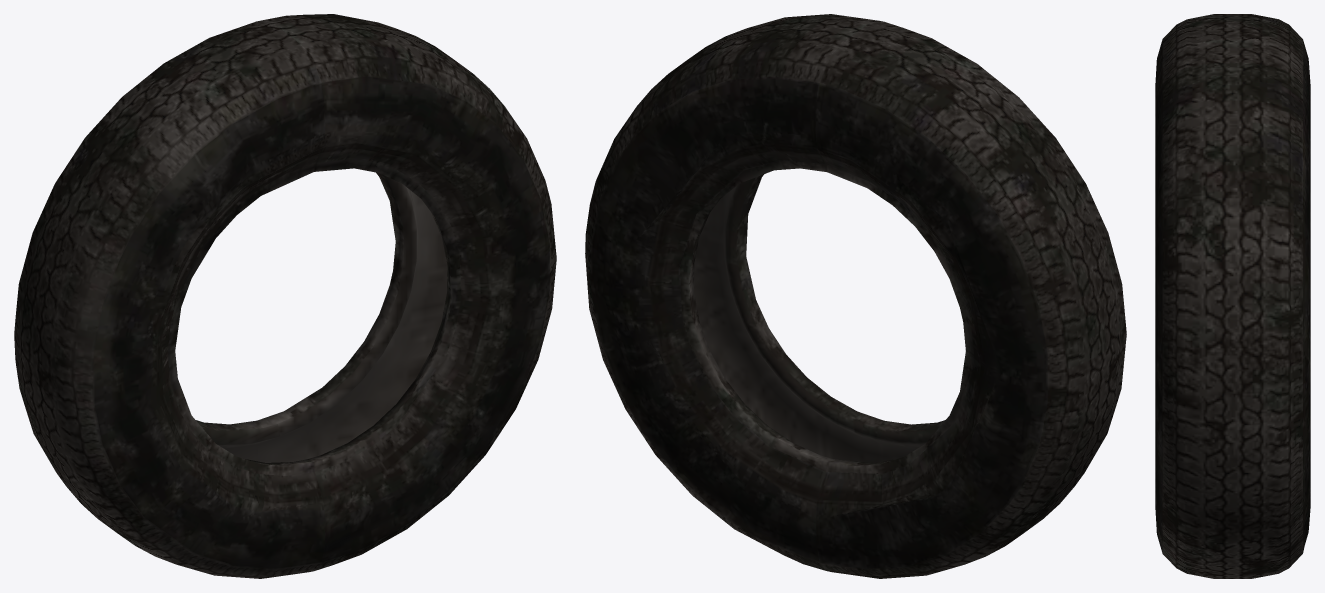
The model's file is tyre.glb.
3 renders of one model, left to right at view 1: azimuth 30°, elevation 25°; view 2: azimuth 150°, elevation 25°; view 3: azimuth 270°, elevation 25°, orthographic. The views are drawn at different scales.
Visible parts, largest first — view 1: old_tyre; view 2: old_tyre; view 3: old_tyre.
Boxes of the visible parts, left/top/right/bottom form: old_tyre: left=14, top=14, right=556, bottom=578; old_tyre: left=585, top=14, right=1126, bottom=578; old_tyre: left=1155, top=14, right=1310, bottom=578.
Size of the model in its own units: 0.6 by 0.6 by 0.165.
Materials: 1 (1 with a texture image).
